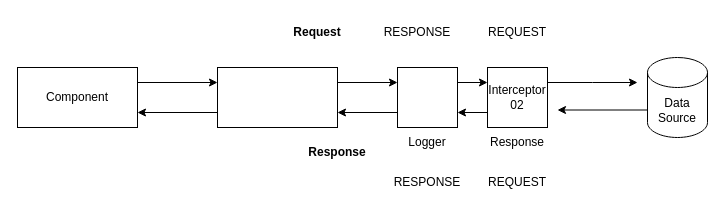
Image size: 725x214. Some labels were removed from this diagram. Here are the shapes that lost their labels. From the top down, the centre of each, then its label:
At point (277, 97): "Services".
At point (427, 97): "Interceptor 01".
